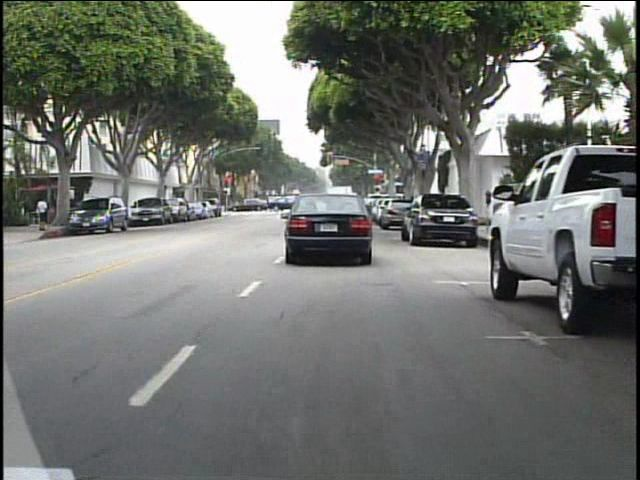person: (36, 193, 53, 234), (264, 193, 277, 217)
